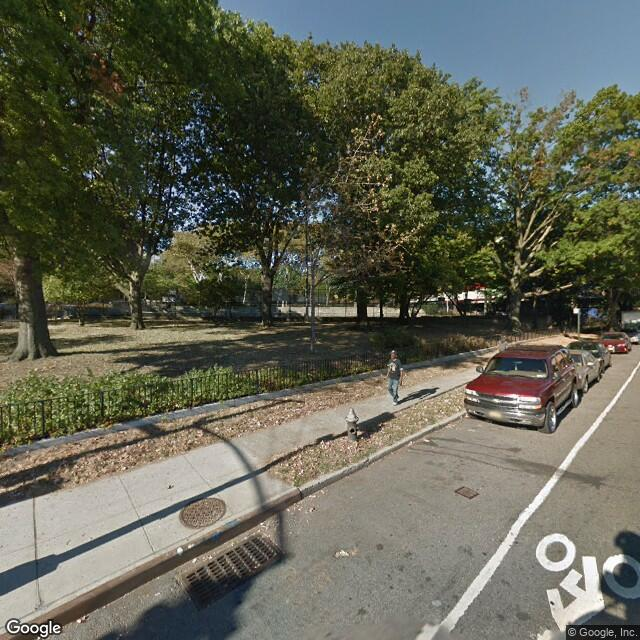litter: (332, 548, 353, 560), (176, 546, 186, 556)
